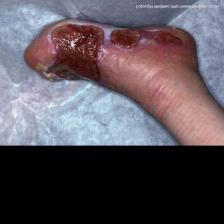Wound: (31, 21, 105, 86), (109, 24, 189, 52)
